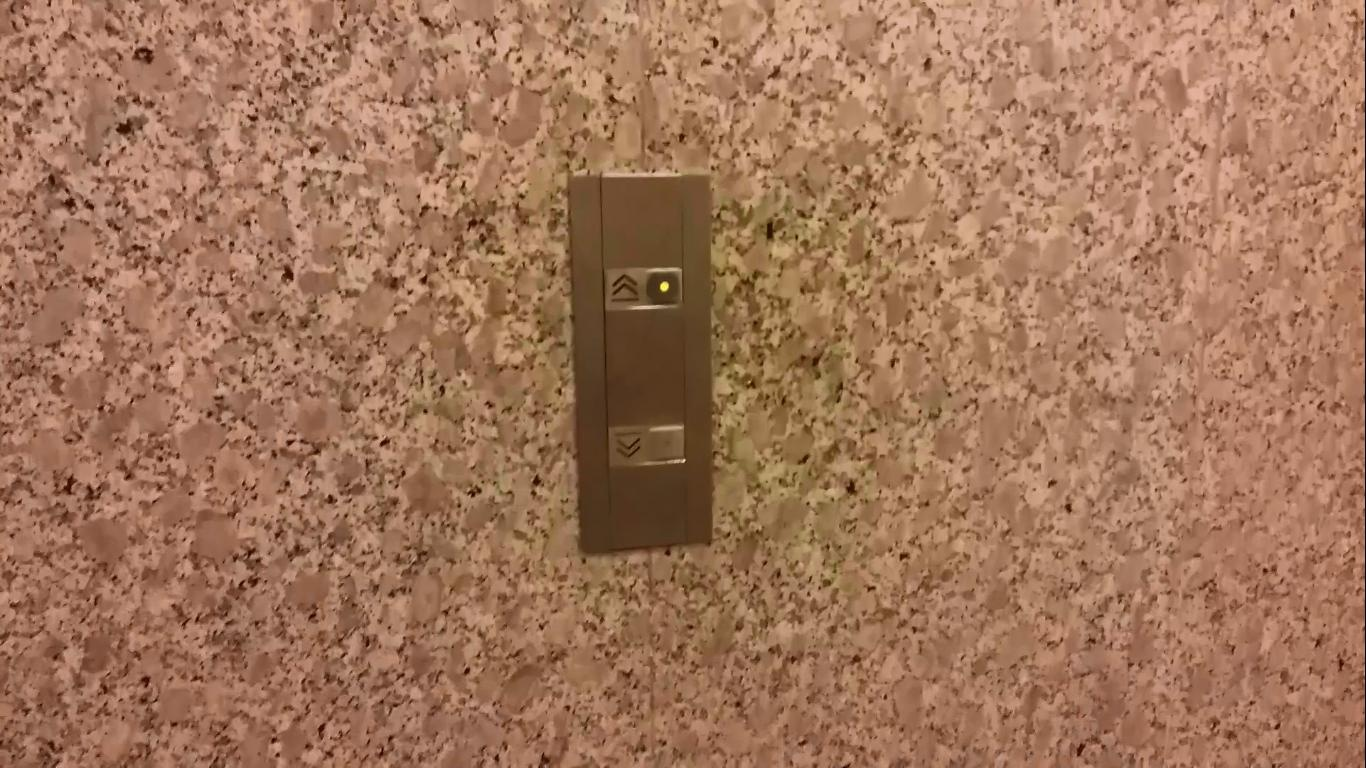down: (604, 420, 692, 472)
up: (601, 262, 688, 312)
